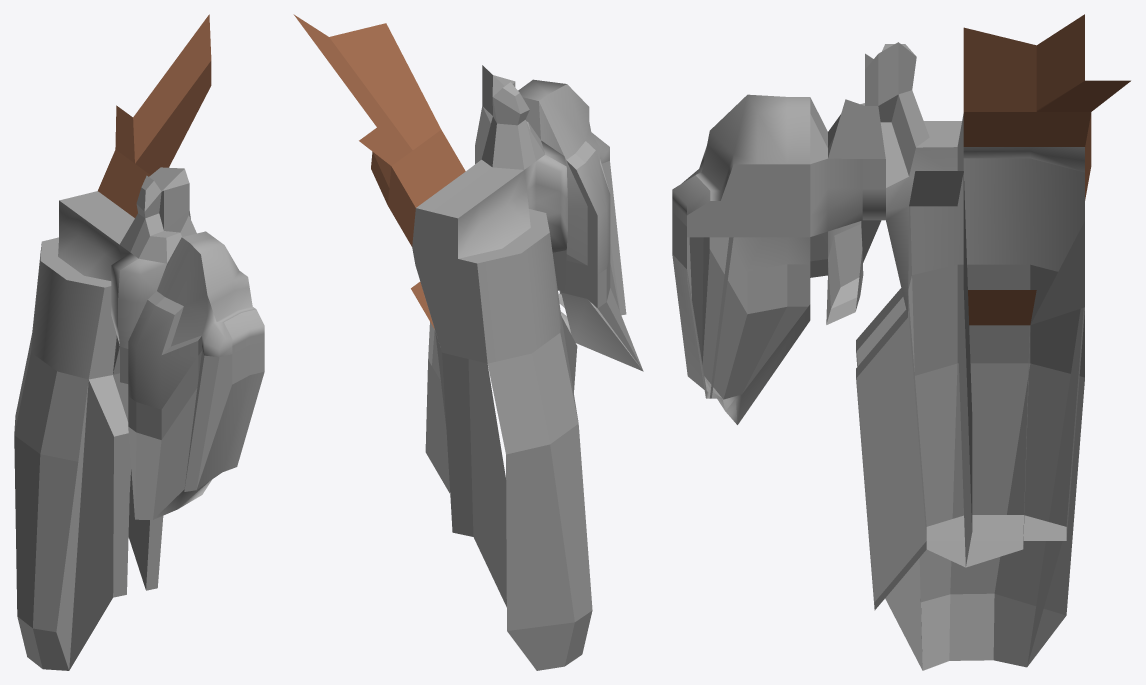
The model's file is Aqua_RockD.fbx.
3 renders of one model, left to right at view 1: azimuth 30°, elevation 25°; view 2: azimuth 150°, elevation 25°; view 3: azimuth 270°, elevation 25°, orthographic. The views are drawn at different scales.
Visible parts, largest first — view 1: Aqua_RocksD; view 2: Aqua_RocksD; view 3: Aqua_RocksD.
Boxes of the visible parts, x1,y1,x2,y2 form: Aqua_RocksD: (14, 14, 264, 670); Aqua_RocksD: (293, 14, 643, 670); Aqua_RocksD: (672, 14, 1130, 670).
Bounding box in the file's own units: 16.03 × 38.66 × 20.28.
